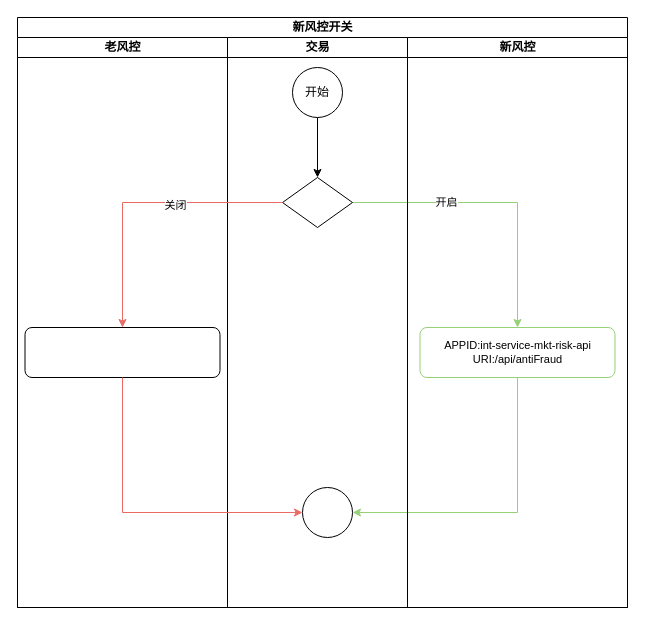
This 645x625 diagram has some shape labels left out. Each missing label, with the centre of its shape:
APPID:int-spring-mlp-risk-control URI:/orderFraud/detect: point 122,352
开关状态: point 317,202
结束: point 327,512
